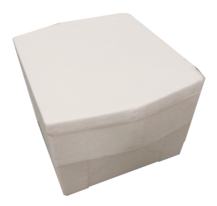Foam Box: (10, 11, 207, 198)
